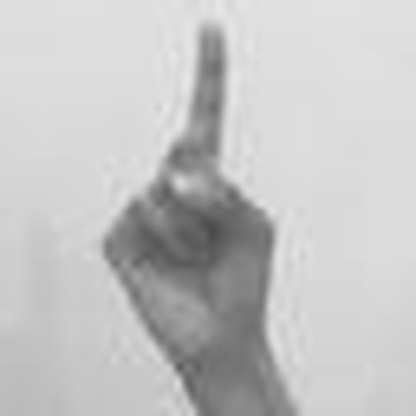d: (85, 11, 291, 338)
